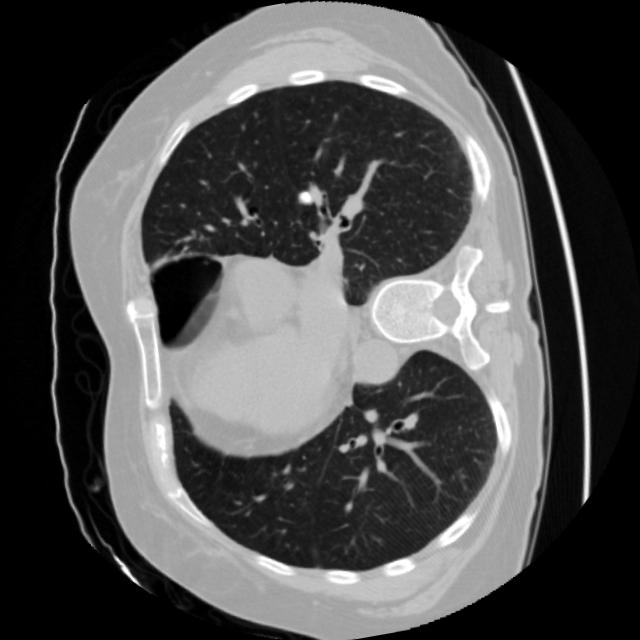nodule: (282, 176, 324, 217)
